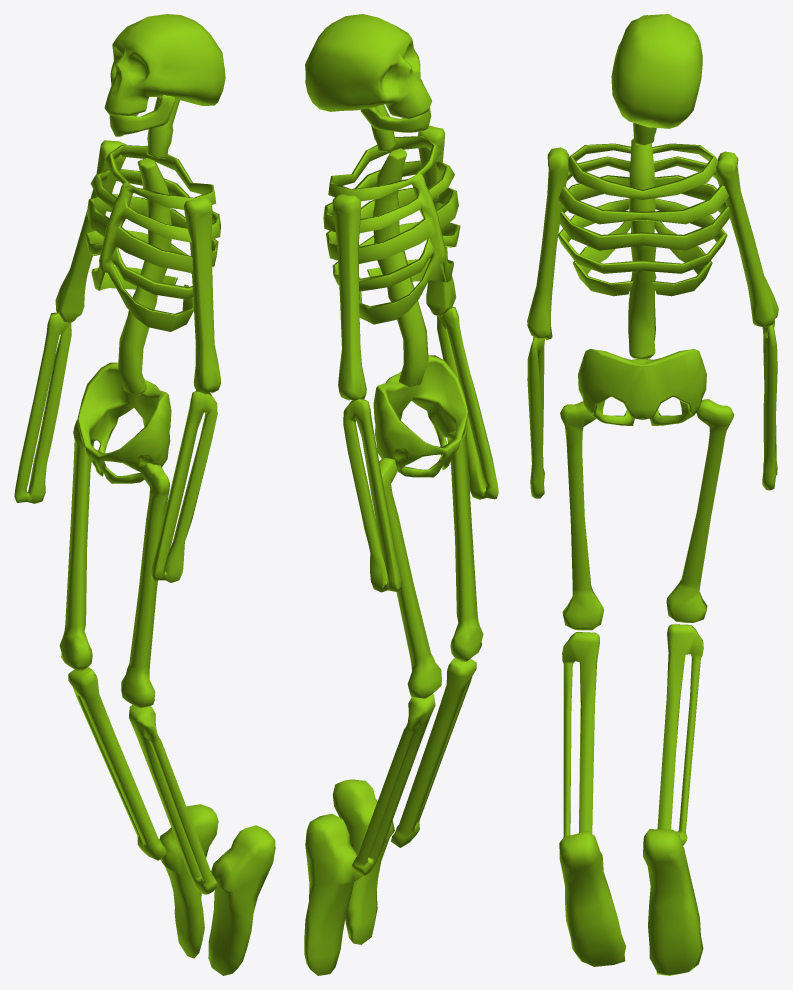
File: Gallows_02C_Lod1.fbx
3 views of the same model, side by side, from view 1: azimuth 30°, elevation 25°; view 2: azimuth 150°, elevation 25°; view 3: azimuth 270°, elevation 25° (orthographic).
Parts seen in each view (by area): view 1: Gallows_02C_Lod1; view 2: Gallows_02C_Lod1; view 3: Gallows_02C_Lod1.
Boxes of the visible parts, x1,y1,x2,y2 form: Gallows_02C_Lod1: [14, 14, 275, 975]; Gallows_02C_Lod1: [304, 14, 498, 975]; Gallows_02C_Lod1: [527, 14, 778, 975].
Size of the model in its own units: 27.94 by 158 by 38.38.
